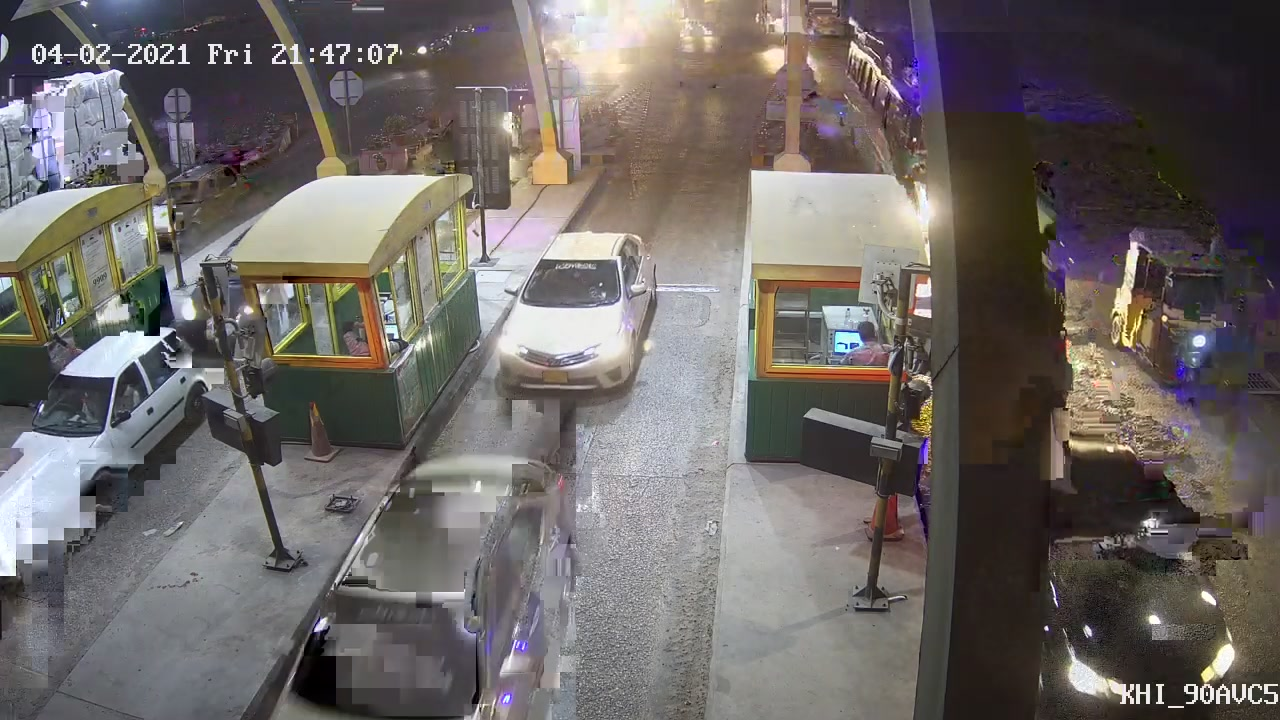F1: (498, 227, 663, 397)
